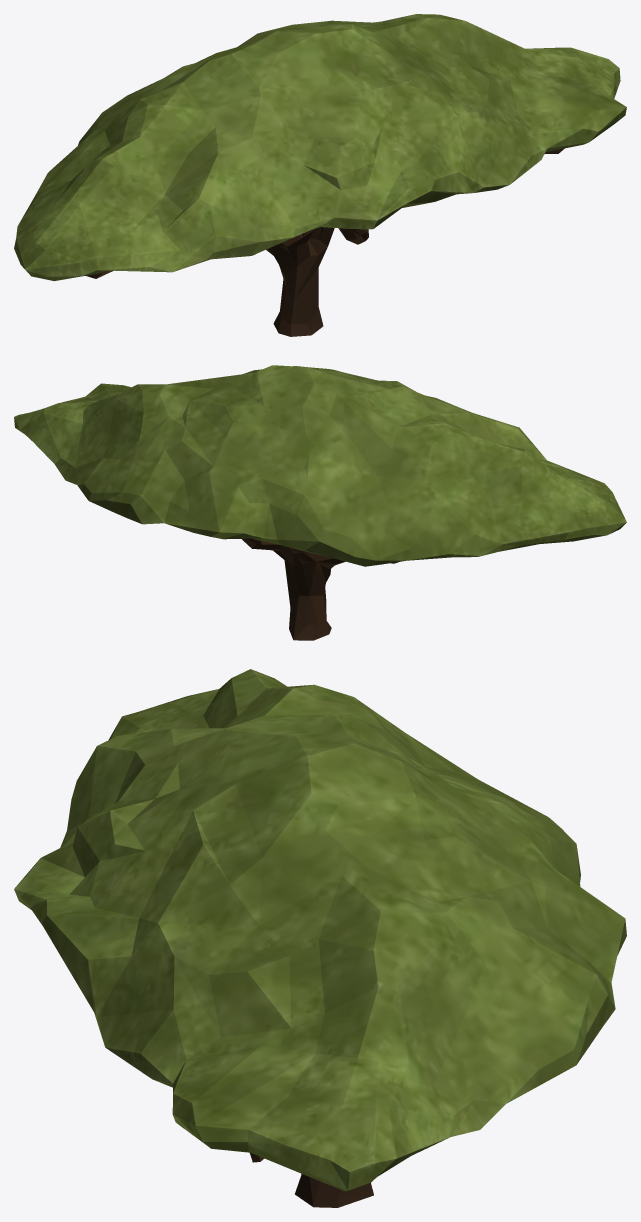
File: acacia.glb
3 views of the same model, one above another, from view 1: azimuth 30°, elevation 25°; view 2: azimuth 150°, elevation 25°; view 3: azimuth 270°, elevation 25° (orthographic). The views are drawn at different scales.
Visible parts, largest first — view 1: Acacia_Mesh; view 2: Acacia_Mesh; view 3: Acacia_Mesh.
Part boxes in pixels (x1=…): Acacia_Mesh: x1=14, y1=14, x2=626, y2=336; Acacia_Mesh: x1=14, y1=365, x2=626, y2=640; Acacia_Mesh: x1=14, y1=669, x2=626, y2=1207.
Size of the model in its own units: 2.29 by 0.9999 by 1.25.
1 material, 1 textured.
